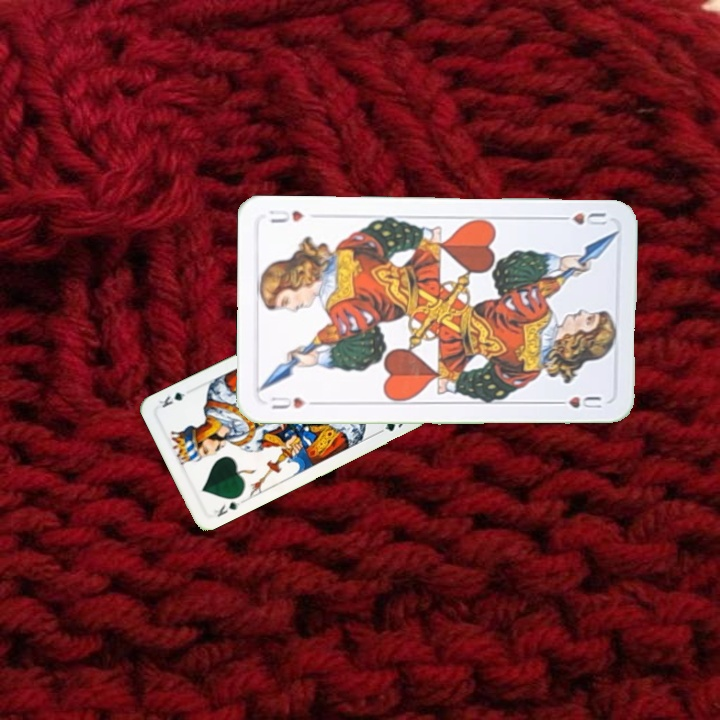GK: (210, 496, 243, 519)
HU: (552, 209, 610, 228), (267, 392, 308, 411)
